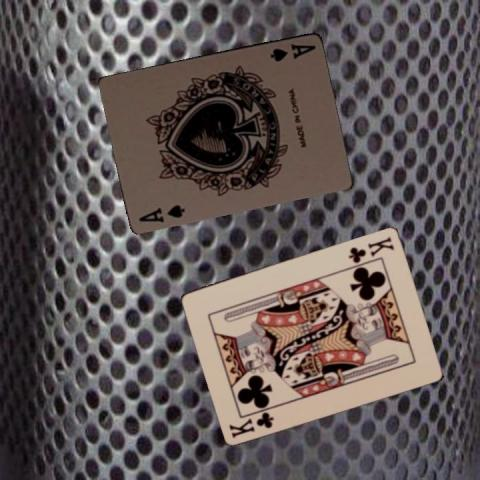As: (268, 40, 318, 63), (136, 201, 187, 223)
Kc: (346, 233, 396, 264), (226, 409, 276, 439)
